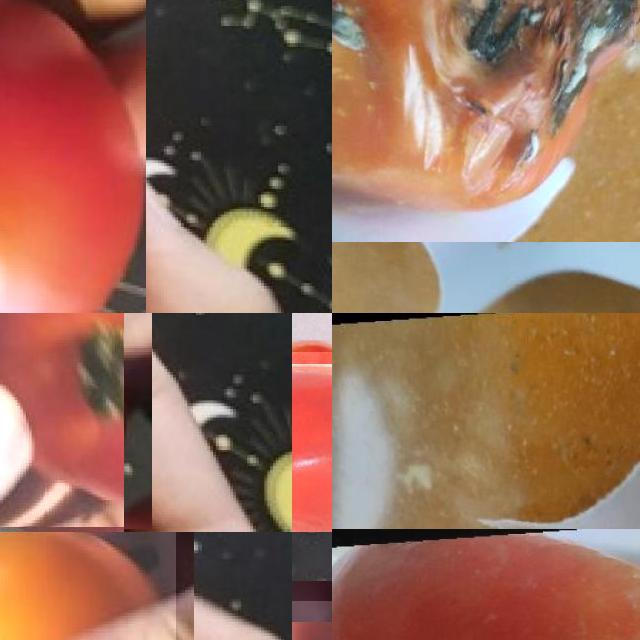Fresh Tomato: (0, 0, 146, 313), (0, 313, 124, 532)
Rotten Tomato: (332, 0, 640, 242), (332, 529, 640, 640), (0, 532, 176, 640), (292, 351, 332, 532)
